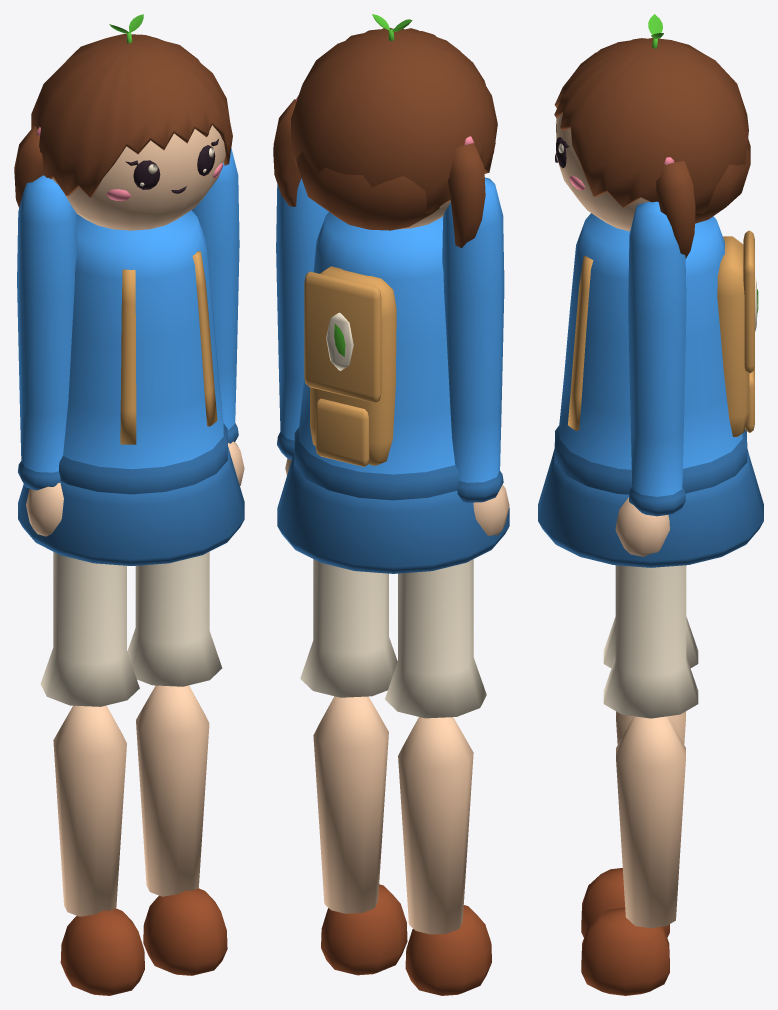
Rendered from hero-girl-grown.glb.
The picture shows the model from 3 angles, left to right: view 1: azimuth 30°, elevation 25°; view 2: azimuth 150°, elevation 25°; view 3: azimuth 270°, elevation 25°; orthographic projection. The views are drawn at different scales.
Visible parts, largest first — view 1: body, head, leg-left, leg-right, arm-left, arm-right; view 2: body, head, leg-left, leg-right, arm-left, arm-right; view 3: body, head, leg-right, arm-right, leg-left.
Boxes of the visible parts, x1,y1,x2,y2 form: body: [18, 210, 244, 565]; head: [14, 34, 232, 230]; leg-left: [40, 552, 144, 995]; leg-right: [127, 551, 227, 975]; arm-left: [17, 175, 77, 536]; arm-right: [192, 148, 244, 485]; body: [277, 212, 509, 573]; head: [273, 28, 497, 248]; leg-left: [385, 559, 491, 995]; leg-right: [300, 559, 407, 975]; arm-left: [442, 177, 509, 536]; arm-right: [276, 178, 328, 474]; body: [538, 213, 763, 567]; head: [554, 38, 750, 258]; leg-right: [581, 565, 698, 995]; arm-right: [615, 201, 686, 556]; leg-left: [581, 617, 698, 937].
Bounding box in the file's own units: 0.7812 × 3.29 × 0.7142.
